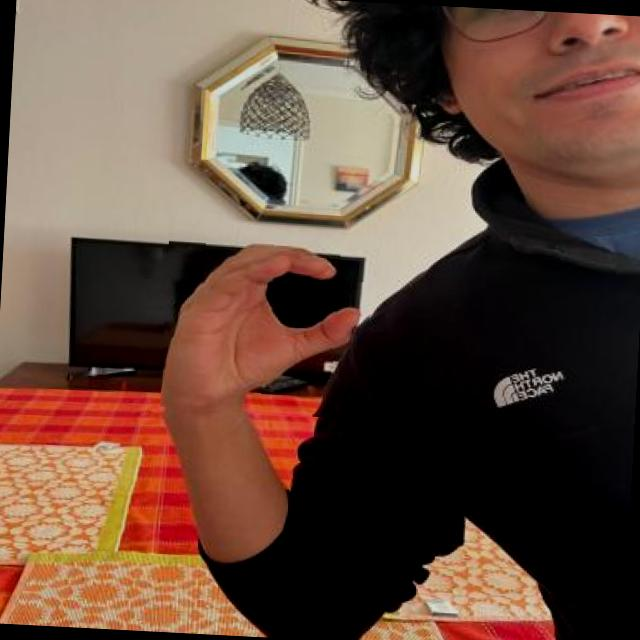C: (160, 221, 377, 421)
